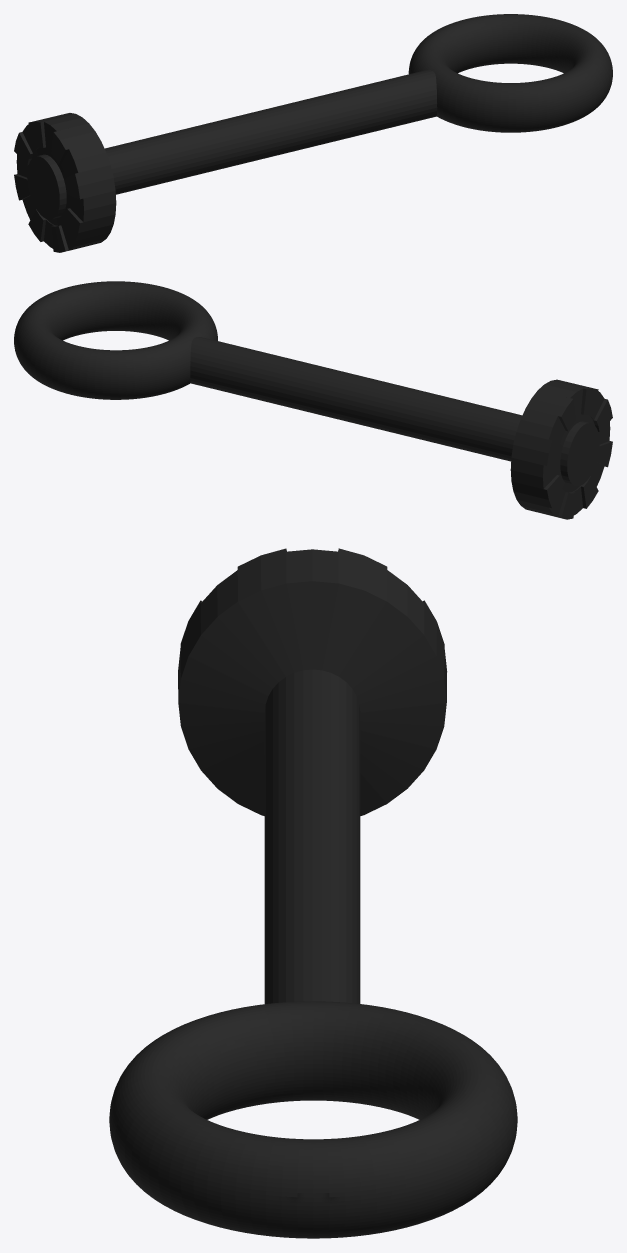
File: Final_Key multitoolcase.glb
The picture shows the model from 3 angles, top to bottom: view 1: azimuth 30°, elevation 25°; view 2: azimuth 150°, elevation 25°; view 3: azimuth 270°, elevation 25°; orthographic projection. The views are drawn at different scales.
Parts seen in each view (by area): view 1: Cylinder.005; view 2: Cylinder.005; view 3: Cylinder.005.
Part boxes in pixels (x1,y1,x2,y2): Cylinder.005: (14,14,612,252); Cylinder.005: (14,281,612,519); Cylinder.005: (109,548,517,1238).
Size of the model in its own units: 3.92 by 0.8224 by 1.25.
1 material, 1 textured.
